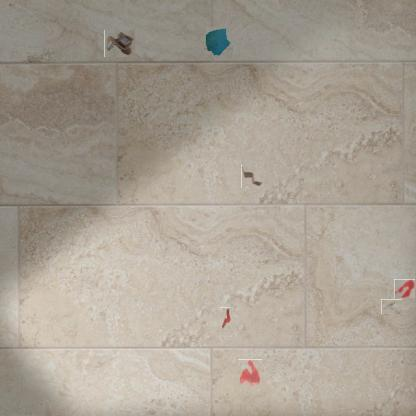dirty: (105, 29, 135, 58), (204, 27, 233, 57), (241, 164, 264, 188), (383, 297, 400, 316), (219, 307, 231, 328)
liquid: (238, 359, 262, 386), (394, 279, 415, 298)
